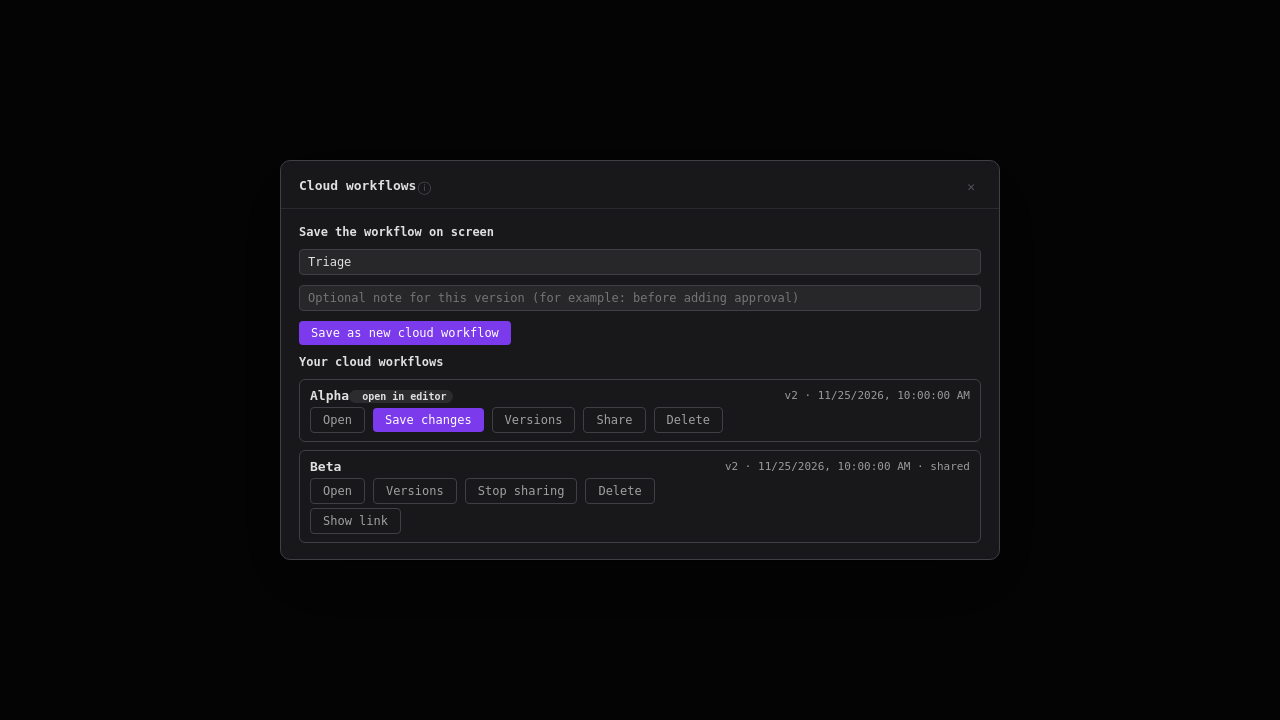
Scenario: CloudModal — versions › lists versions, shows what changed since one, and can restore an older one
The image size is (1280, 720).
Click the button with aria-label "Versions of Alpha".
click(534, 420)  # box left=492, top=407, right=575, bottom=433
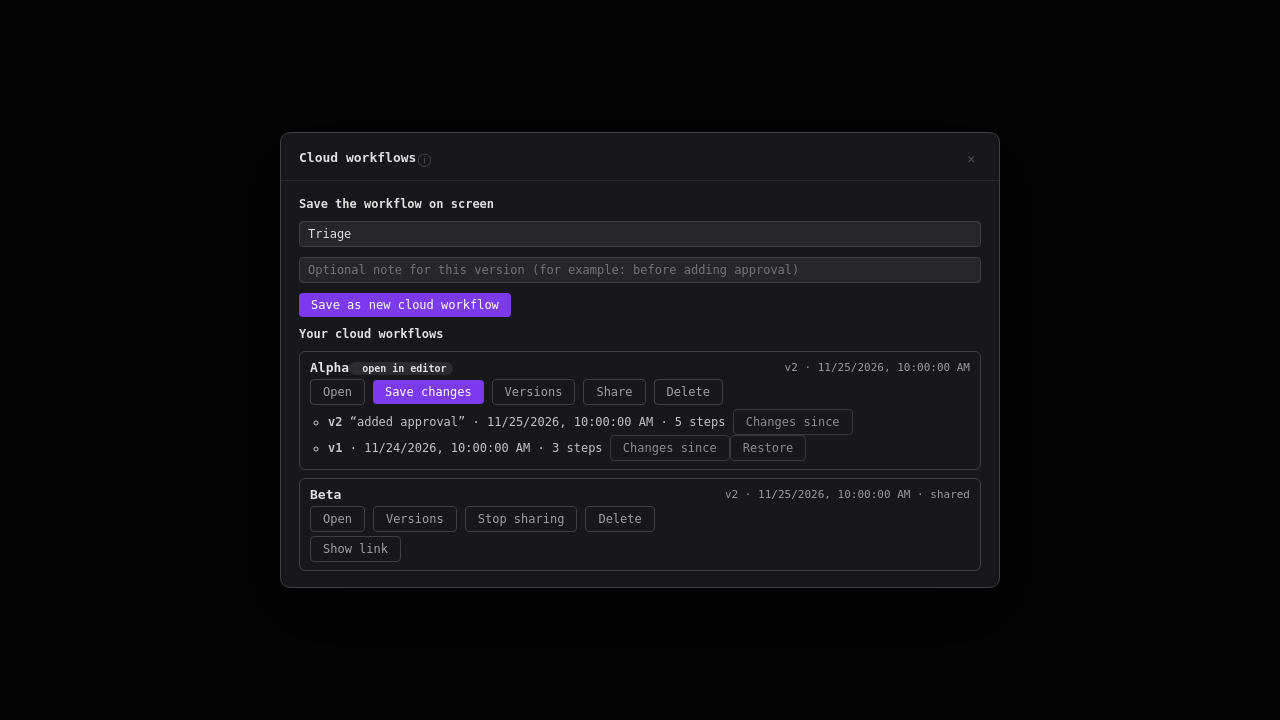
Expected: the element with test id "versions" shows "“added approval”", left=350, top=415, right=472, bottom=429
Click the button with aria-label "Changes since version 1".
click(670, 448)  # box left=610, top=435, right=730, bottom=461
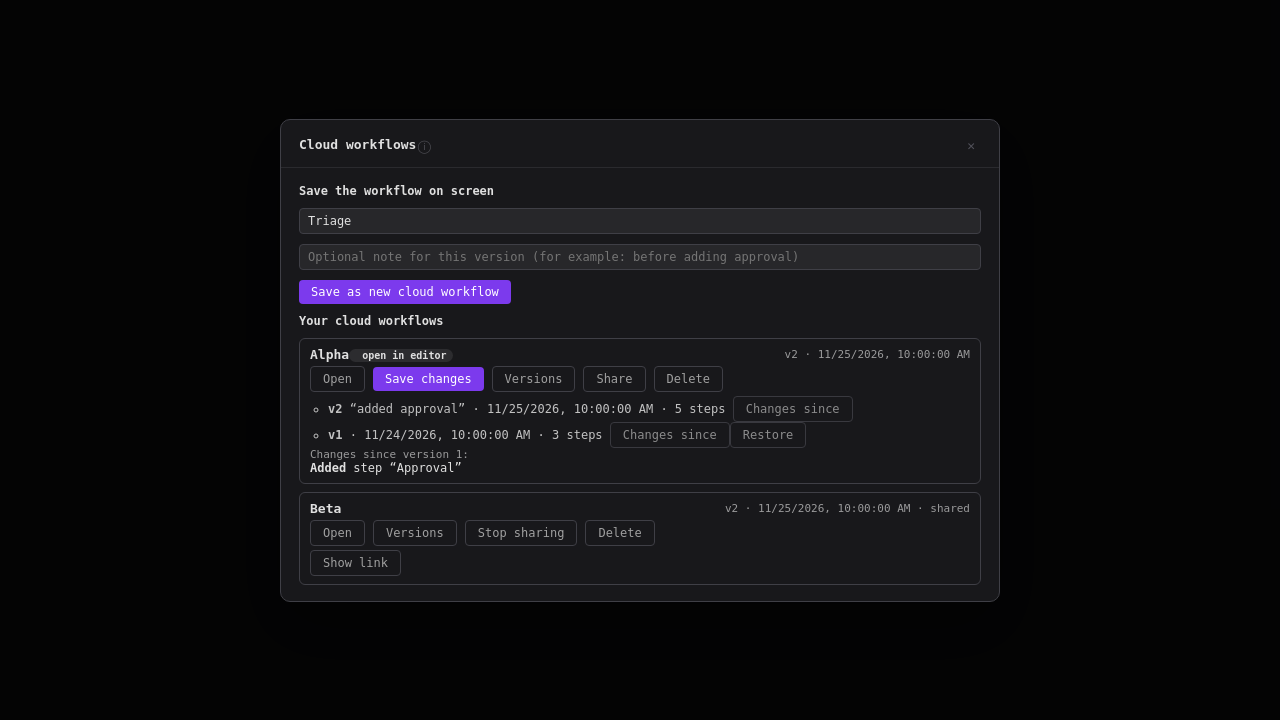
Expected: the element with test id "version-diff" reads "Added step “Approval”", left=310, top=460, right=462, bottom=474
Click the button with aria-label "Restore version 1".
click(768, 434)  # box left=730, top=422, right=806, bottom=448
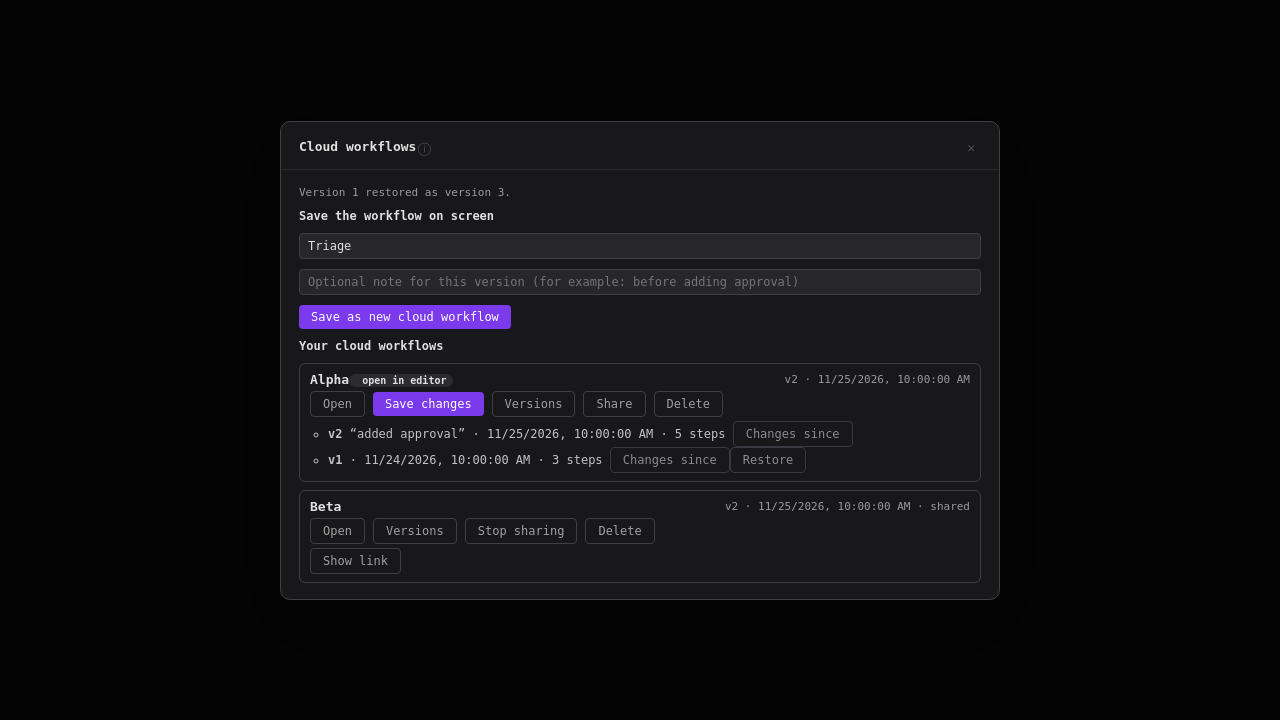
Expected: the message reads "Version 1 restored as version 3.", left=299, top=186, right=511, bottom=198
